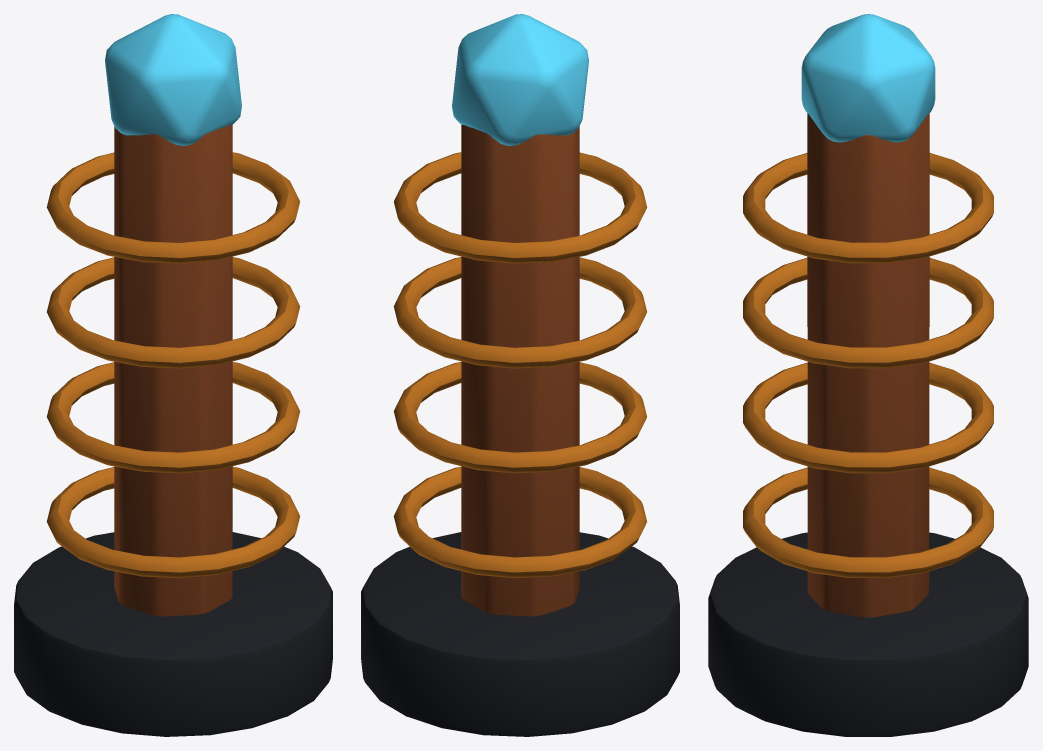
File: TeslaCoil.obj
3 views of the same model, side by side, from view 1: azimuth 30°, elevation 25°; view 2: azimuth 150°, elevation 25°; view 3: azimuth 270°, elevation 25° (orthographic).
Parts seen in each view (by area): view 1: TeslaCoil; view 2: TeslaCoil; view 3: TeslaCoil.
Part boxes in pixels (x1,y1,x2,y2): TeslaCoil: (14, 14, 332, 736); TeslaCoil: (361, 14, 679, 736); TeslaCoil: (708, 14, 1028, 736).
Bounding box in the file's own units: 0.3563 × 0.8144 × 0.36.
